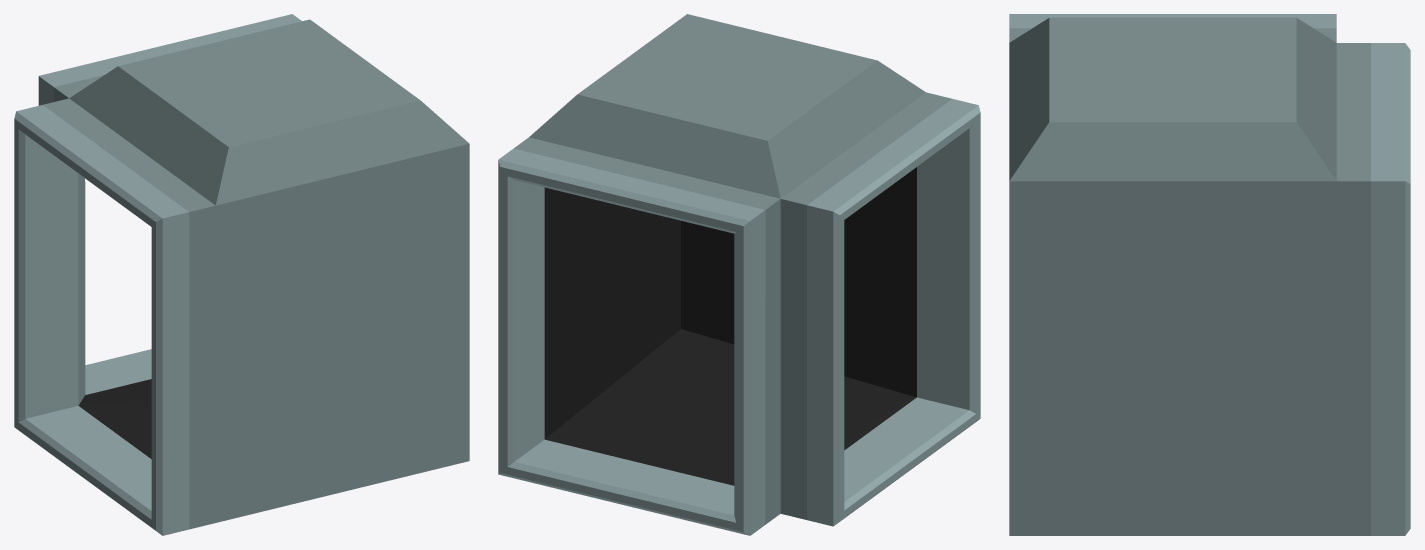
The model's file is mech_corner_1.fbx.
The picture shows the model from 3 angles, left to right: view 1: azimuth 30°, elevation 25°; view 2: azimuth 150°, elevation 25°; view 3: azimuth 270°, elevation 25°; orthographic projection. The views are drawn at different scales.
Visible parts, largest first — view 1: mech_corner_1; view 2: mech_corner_1; view 3: mech_corner_1.
Boxes of the visible parts, x1,y1,x2,y2 form: mech_corner_1: (14, 14, 469, 535); mech_corner_1: (498, 14, 980, 535); mech_corner_1: (1009, 14, 1410, 535).
Bounding box in the file's own units: 94.97 × 104 × 94.97.
